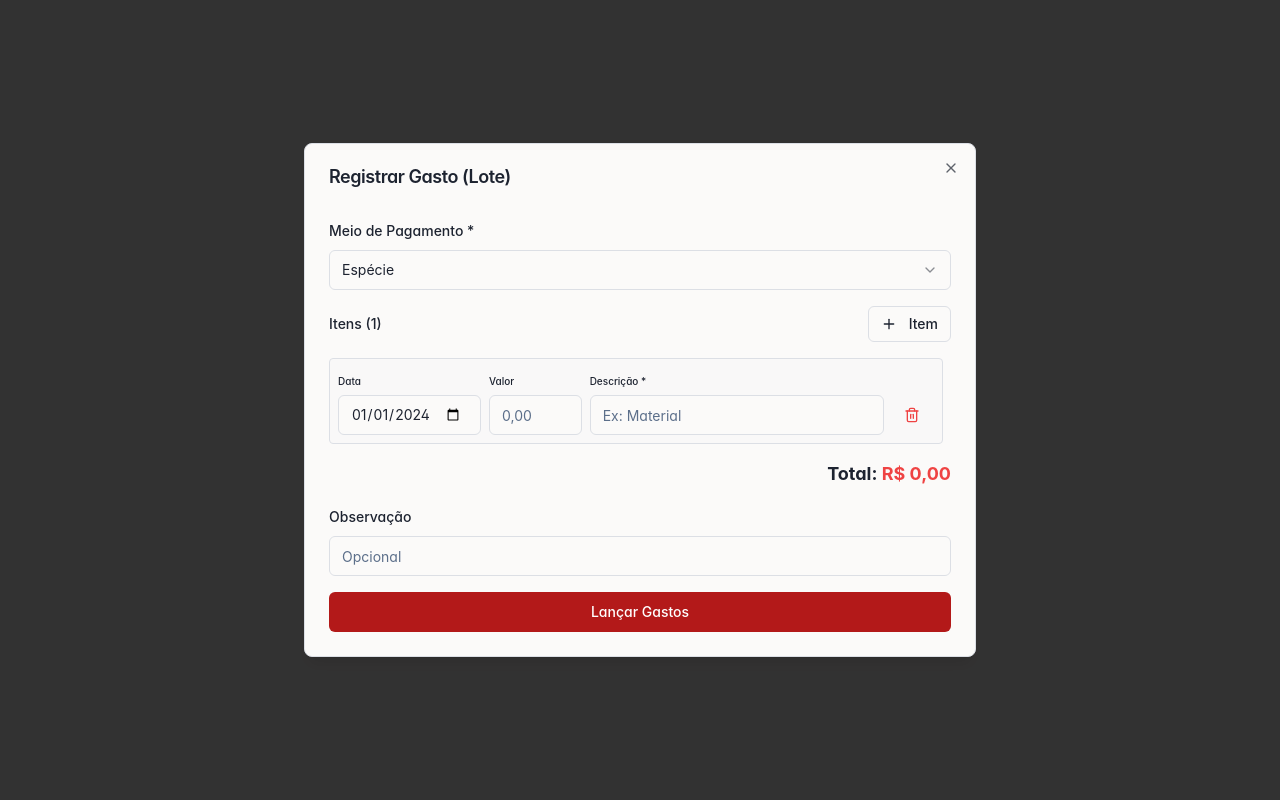
Test case: GastoAssociacaoDialog › should render and allow adding multiple items
The width and height of the screenshot is (1280, 800).
Check: the heading "Registrar Gasto (Lote)" is shown, box [329,168,511,186]
Click the button "Item" at (909, 324), box [868,306,951,342]
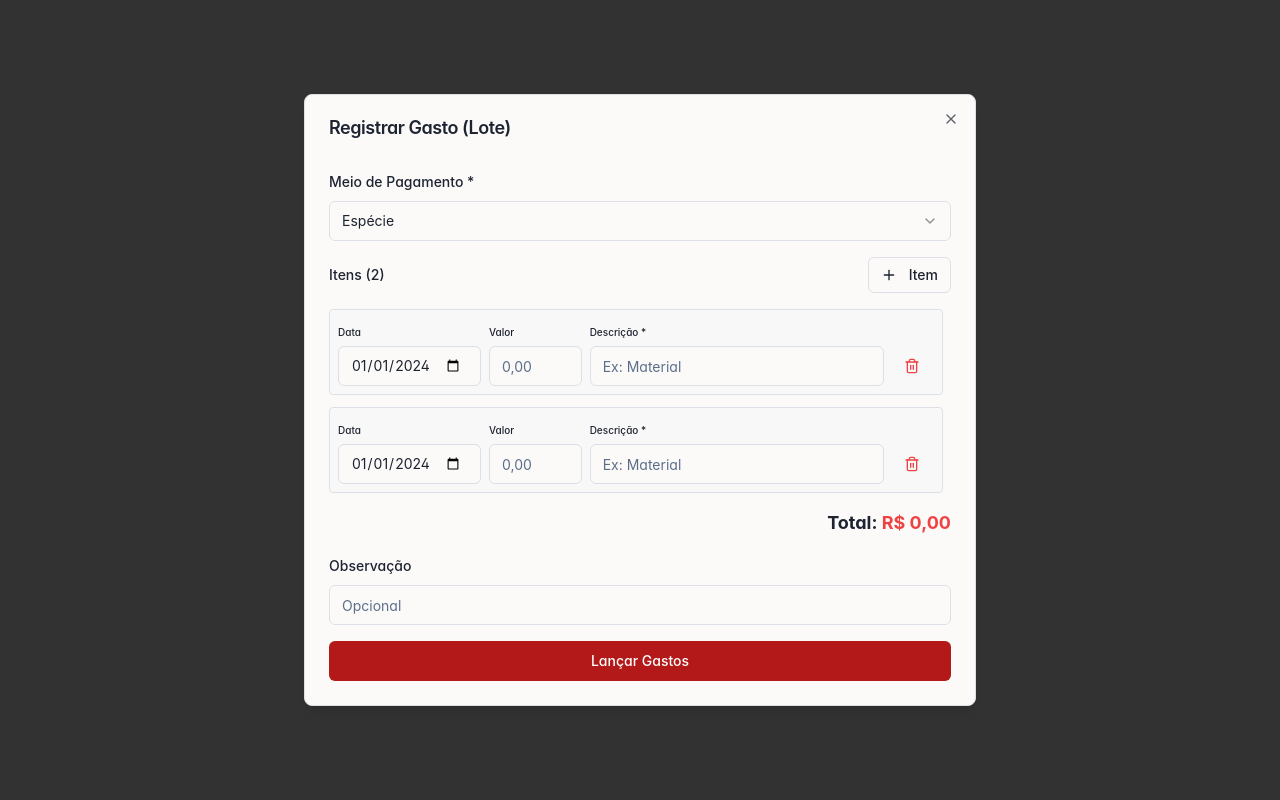
Check: the number of fields with placeholder "Ex: Material" is 2, box [590,346,884,386]; [590,444,884,484]
